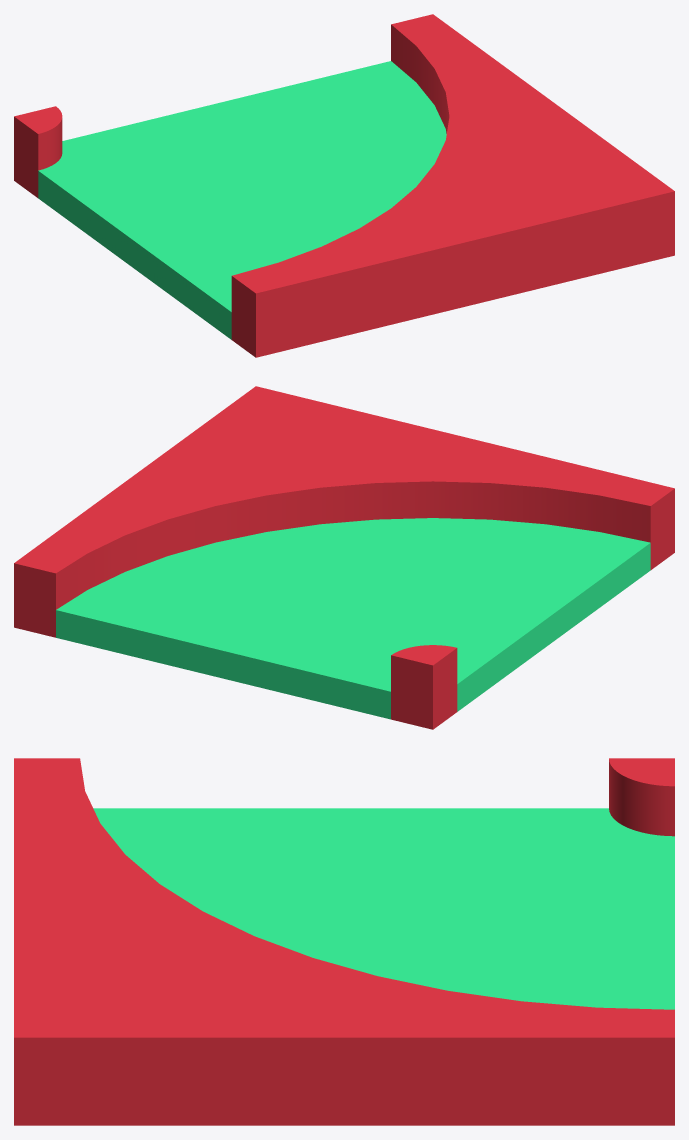
The model's file is roundCornerB.fbx.
The picture shows the model from 3 angles, top to bottom: view 1: azimuth 30°, elevation 25°; view 2: azimuth 150°, elevation 25°; view 3: azimuth 270°, elevation 25°; orthographic projection. The views are drawn at different scales.
Parts seen in each view (by area): view 1: roundCornerB; view 2: roundCornerB; view 3: roundCornerB.
Part boxes in pixels (left/top/right/bottom): roundCornerB: left=14, top=14, right=674, bottom=357; roundCornerB: left=14, top=386, right=674, bottom=729; roundCornerB: left=14, top=758, right=674, bottom=1125.
Size of the model in its own units: 10 by 1.47 by 10.
